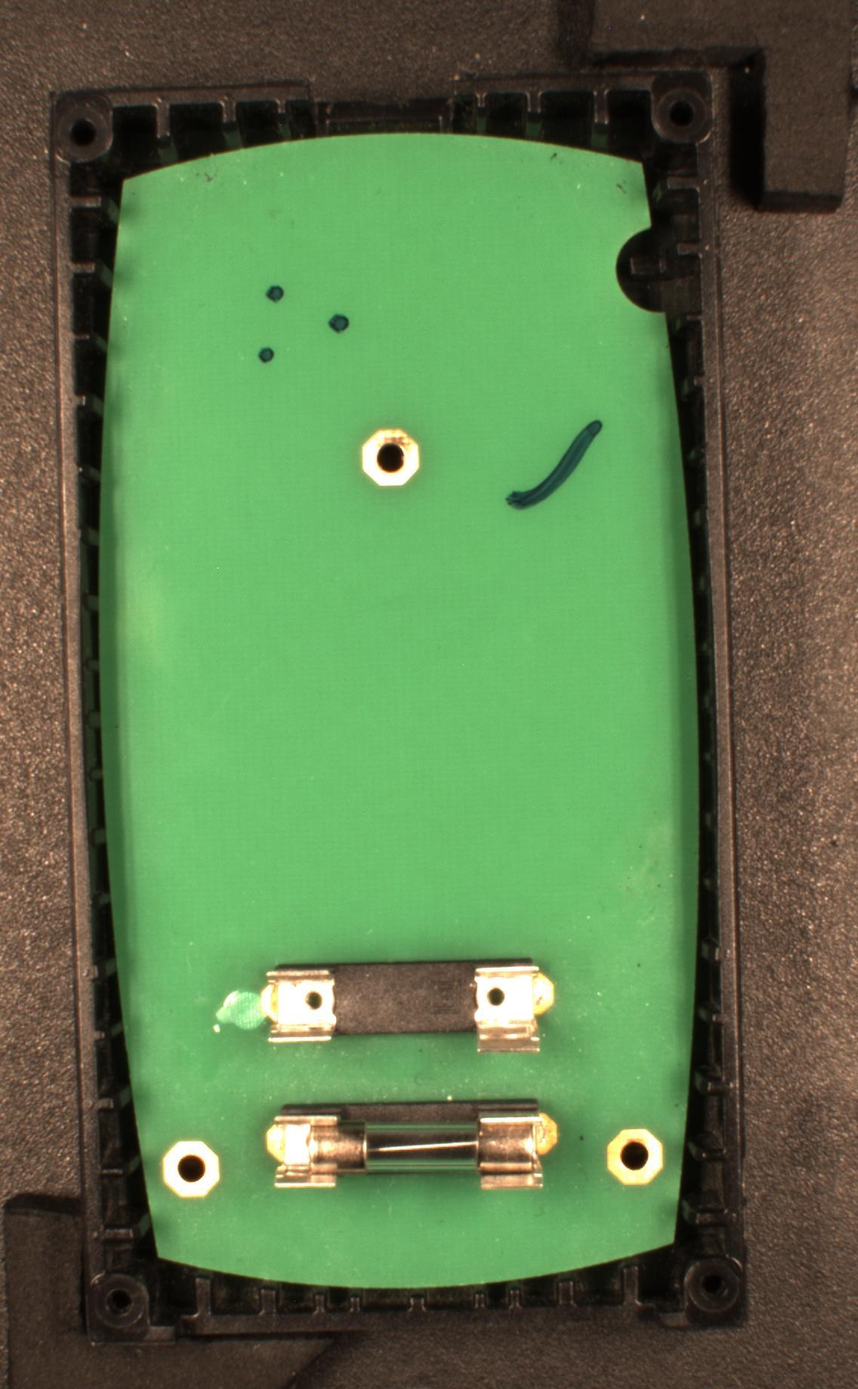Linijsko Ostecene: (505, 417, 604, 512)
Nepostojanje osiguraca: (259, 955, 556, 1054)
Tockasto Ostecenje: (326, 312, 351, 335), (264, 283, 286, 305), (257, 346, 275, 365)
